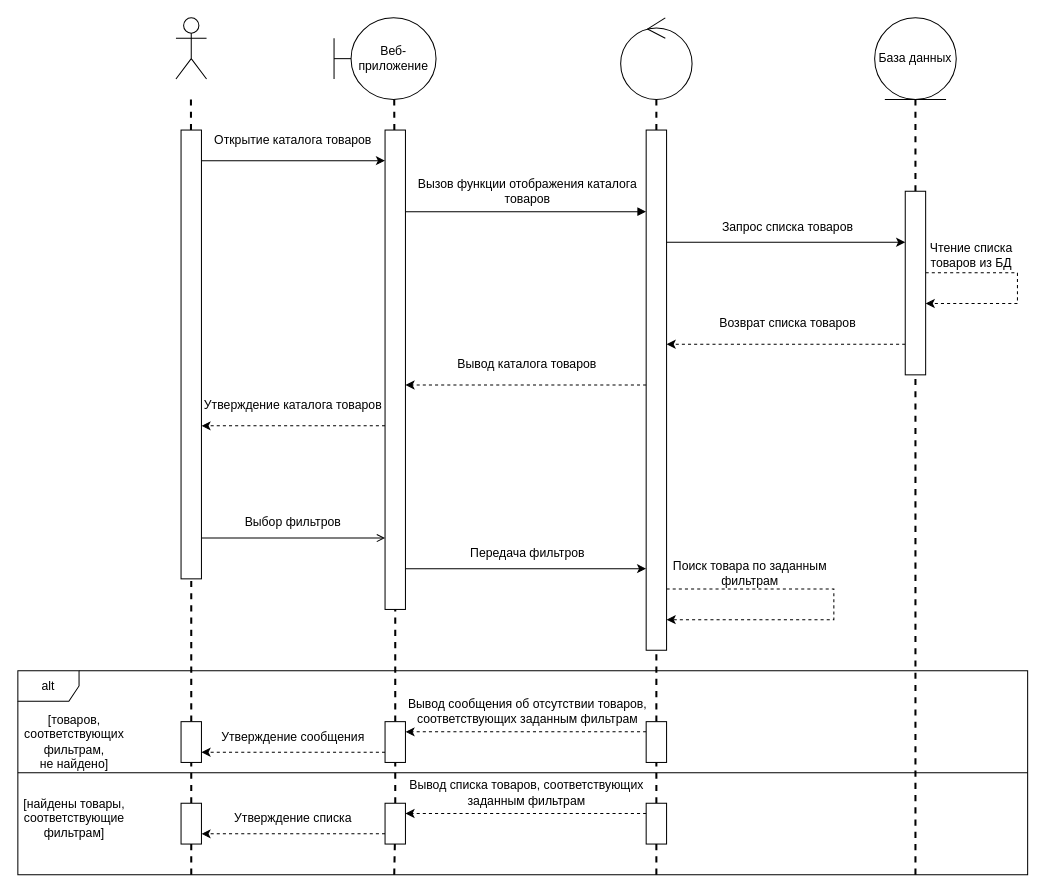
The diagram is 1047 pixels wide and 895 high, and some of its shapes have lost their labels. Each missing label, with the box of its shape:
Клиент: (175, 17, 207, 79)
Сервнрная часть: (620, 17, 692, 99)
